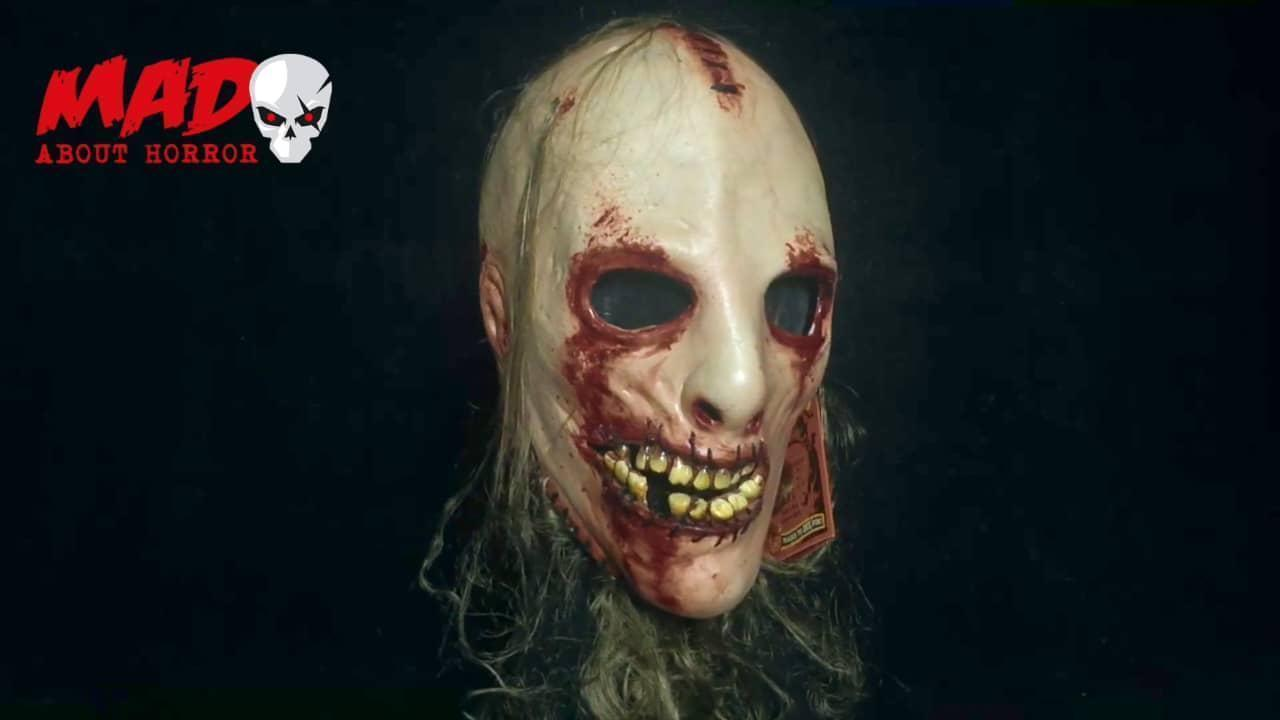Fire: (542, 346, 722, 618), (567, 243, 697, 354), (766, 227, 838, 395), (664, 24, 746, 108)
